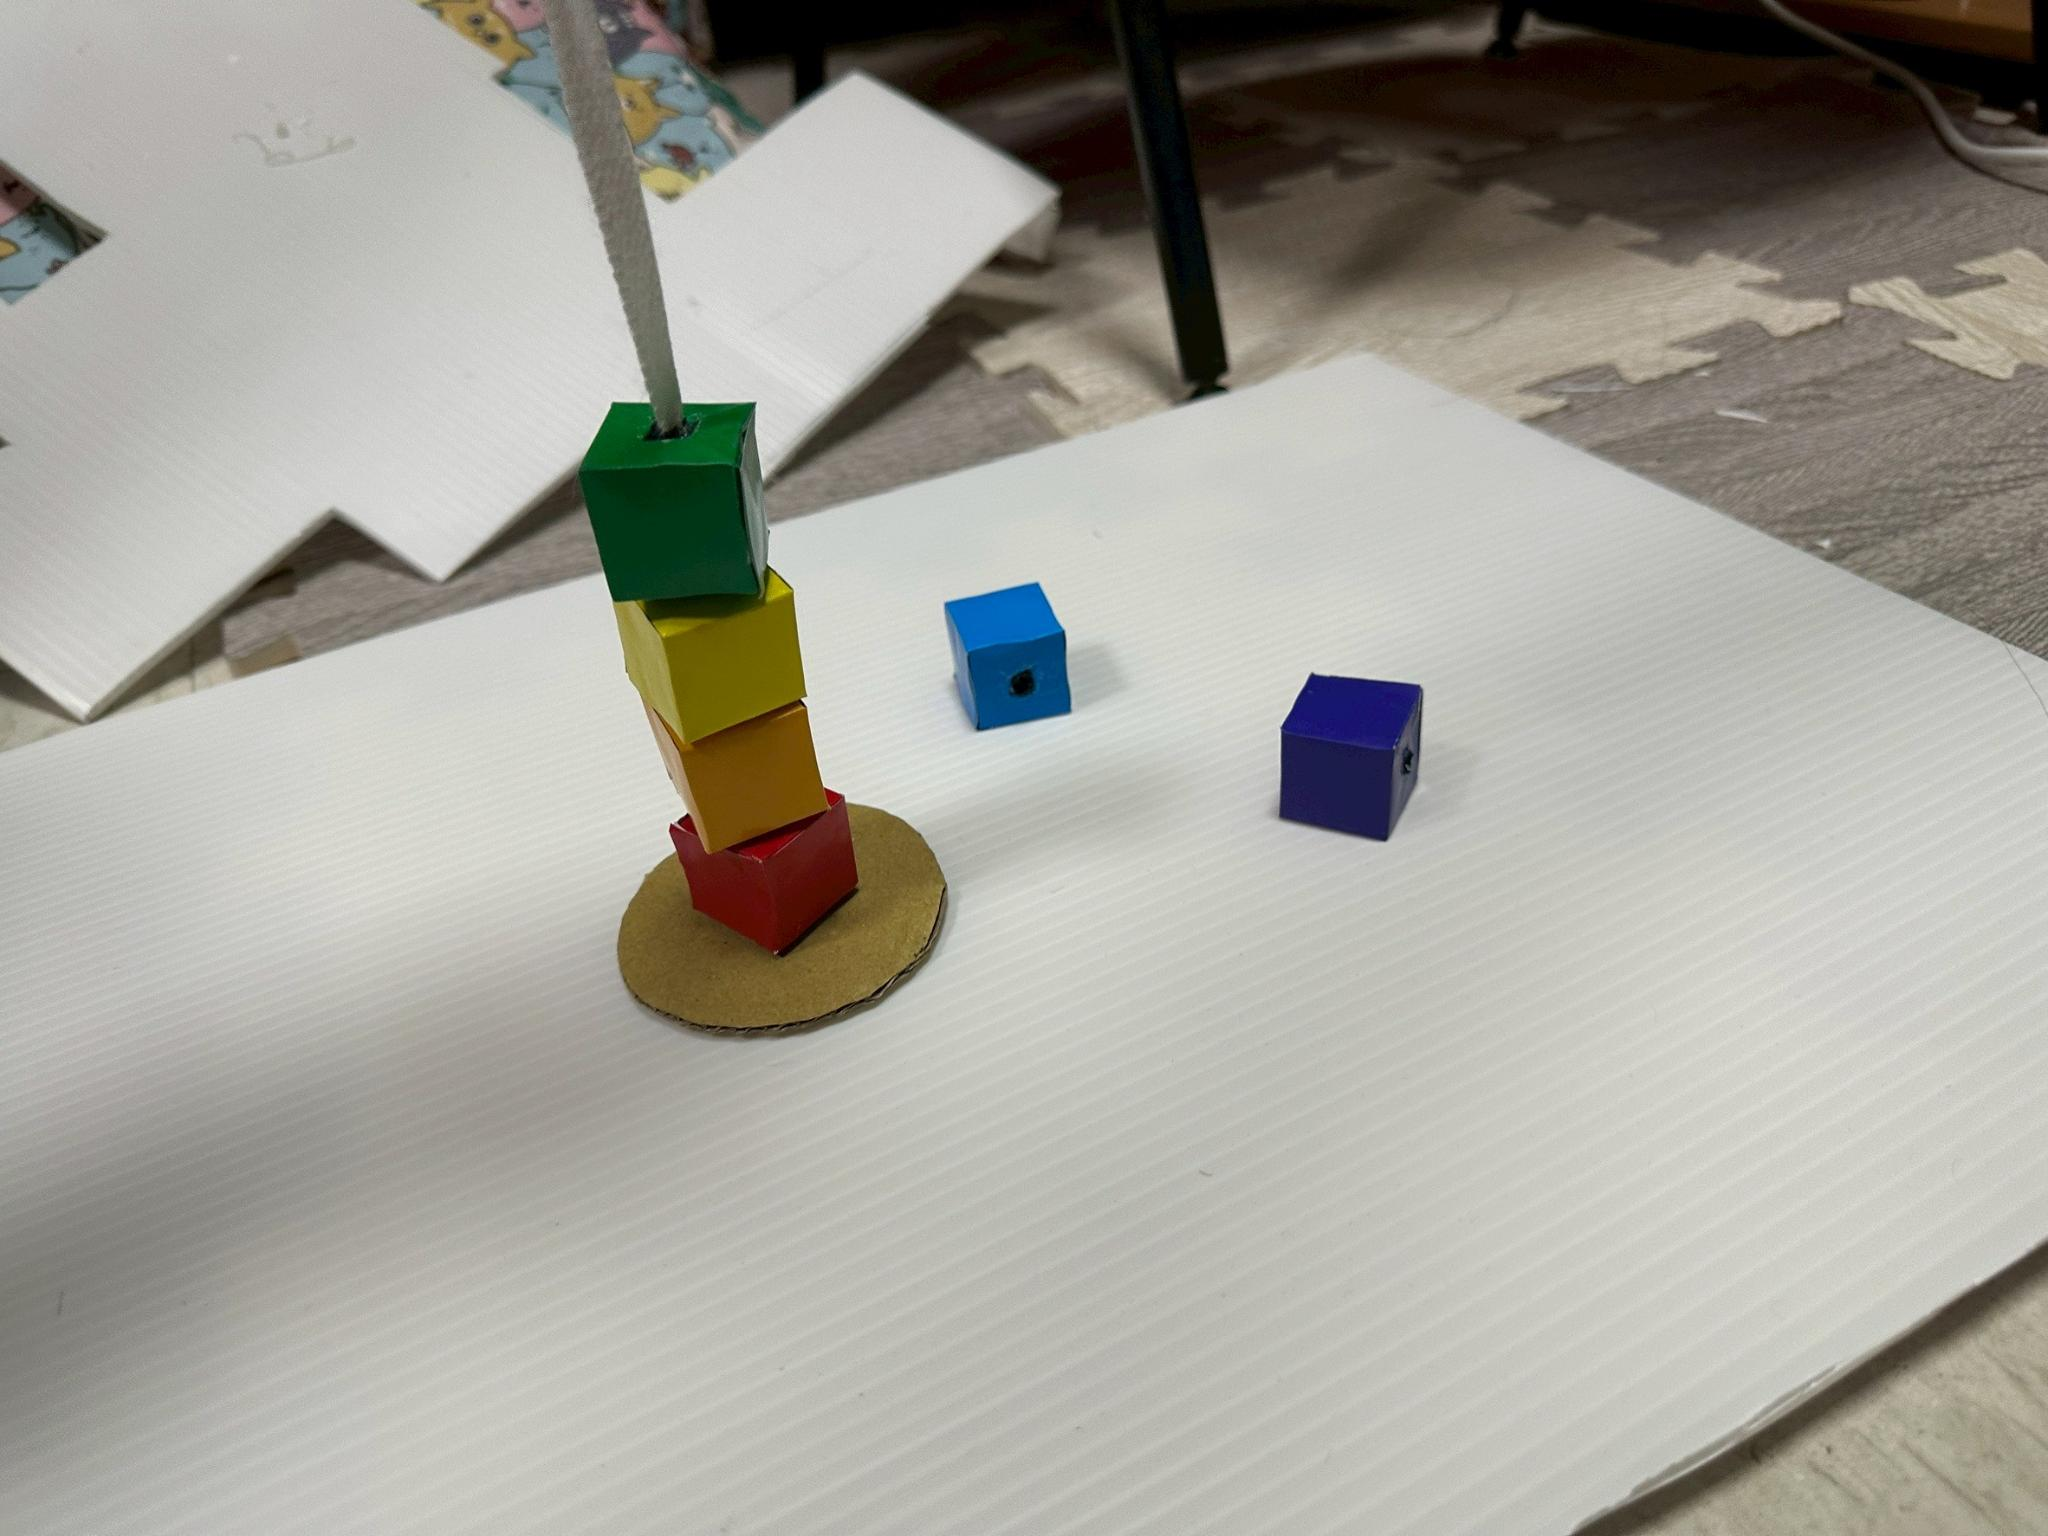base: (579, 403, 766, 602), (614, 570, 805, 749), (671, 791, 856, 955), (647, 702, 827, 852), (1279, 676, 1422, 841), (945, 584, 1069, 731)
